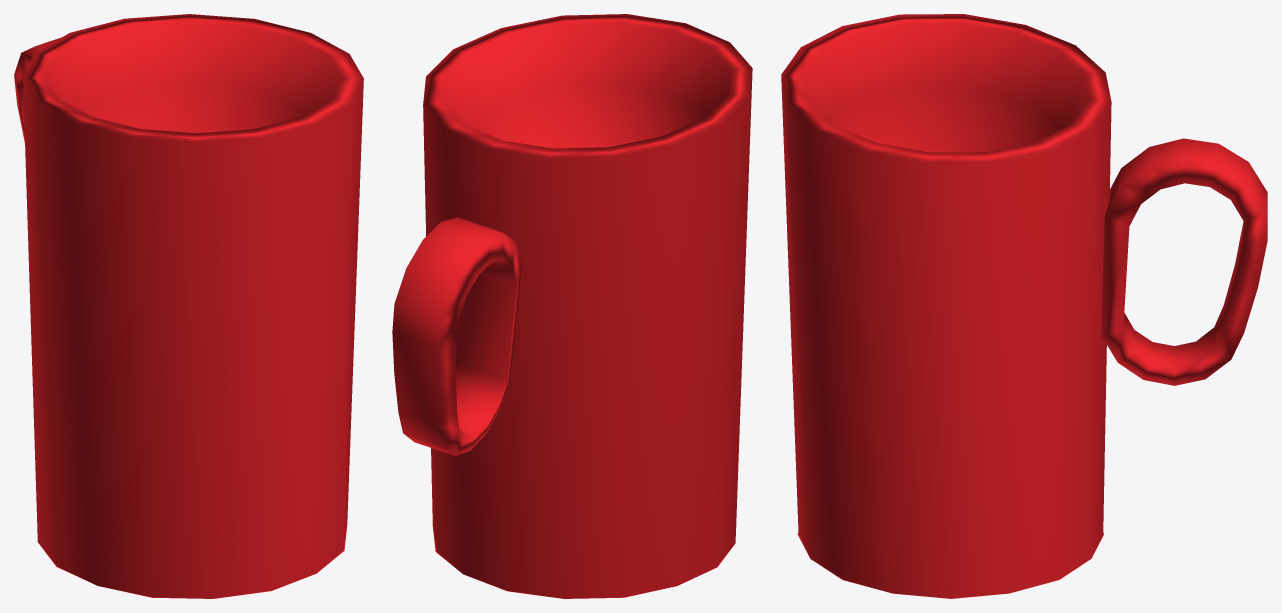
The model's file is Taza01.fbx.
3 renders of one model, left to right at view 1: azimuth 30°, elevation 25°; view 2: azimuth 150°, elevation 25°; view 3: azimuth 270°, elevation 25°, orthographic. The views are drawn at different scales.
Parts seen in each view (by area): view 1: Taza01; view 2: Taza01; view 3: Taza01.
Boxes of the visible parts, box(x1,y1,x2,y2) form: Taza01: box(14, 14, 363, 598); Taza01: box(392, 14, 752, 598); Taza01: box(781, 14, 1267, 598).
Size of the model in its own units: 13.33 by 20.16 by 19.64.
